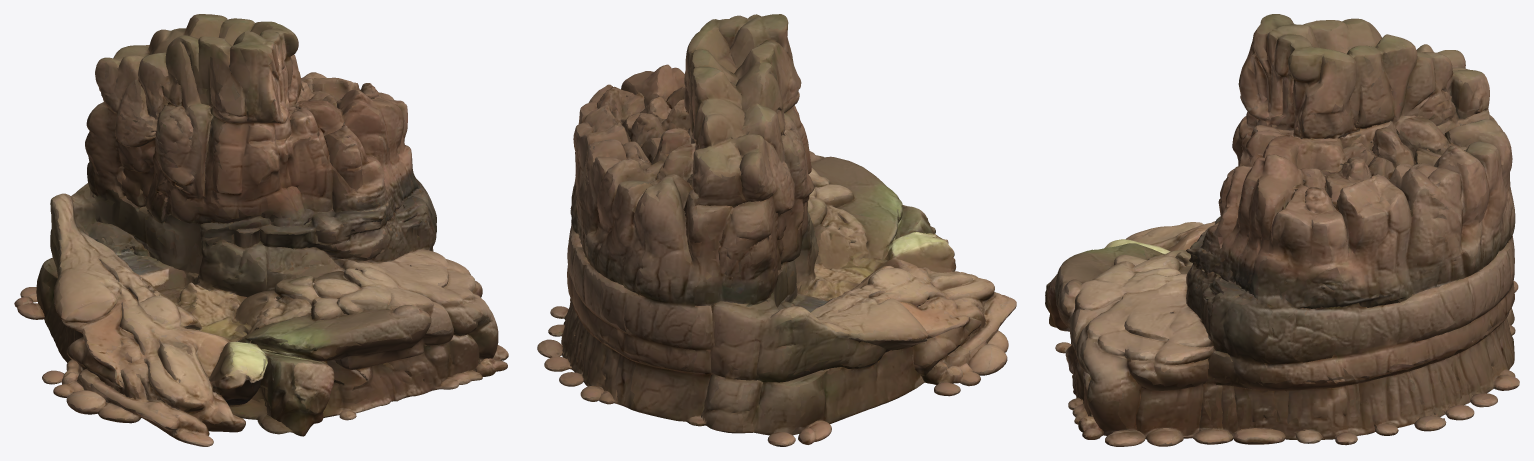
The model's file is riffle-bed-v6.glb.
3 views of the same model, side by side, from view 1: azimuth 30°, elevation 25°; view 2: azimuth 150°, elevation 25°; view 3: azimuth 270°, elevation 25° (orthographic). The views are drawn at different scales.
Visible parts, largest first — view 1: geometry_0; view 2: geometry_0; view 3: geometry_0.
Boxes of the visible parts, x1,y1,x2,y2 form: geometry_0: (14, 14, 508, 446); geometry_0: (537, 14, 1016, 446); geometry_0: (1045, 14, 1519, 446).
Bounding box in the file's own units: 1.2 × 0.9168 × 1.18.
Materials: 1 (1 with a texture image).
